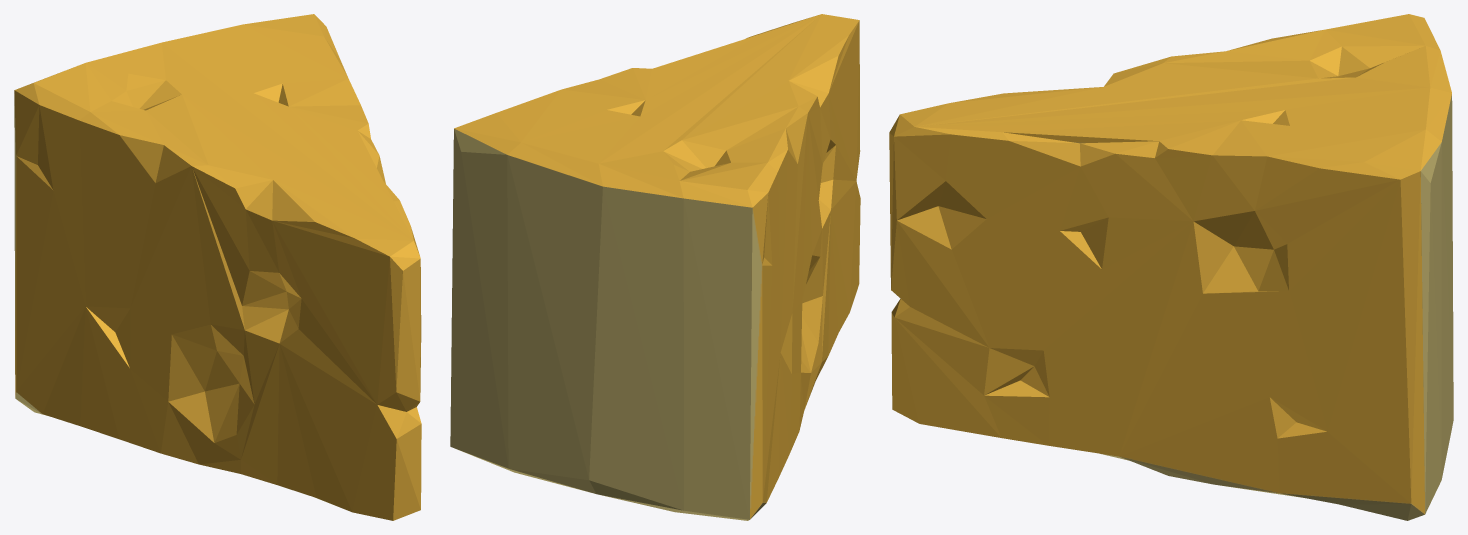
Rendered from cheese1.fbx.
3 views of the same model, side by side, from view 1: azimuth 30°, elevation 25°; view 2: azimuth 150°, elevation 25°; view 3: azimuth 270°, elevation 25° (orthographic). The views are drawn at different scales.
Visible parts, largest first — view 1: cheese.002; view 2: cheese.002; view 3: cheese.002.
Part boxes in pixels (x1,y1,x2,y2): cheese.002: [14, 14, 421, 520]; cheese.002: [450, 14, 860, 520]; cheese.002: [889, 14, 1453, 520].
Bounding box in the file's own units: 95.74 × 97.7 × 140.
